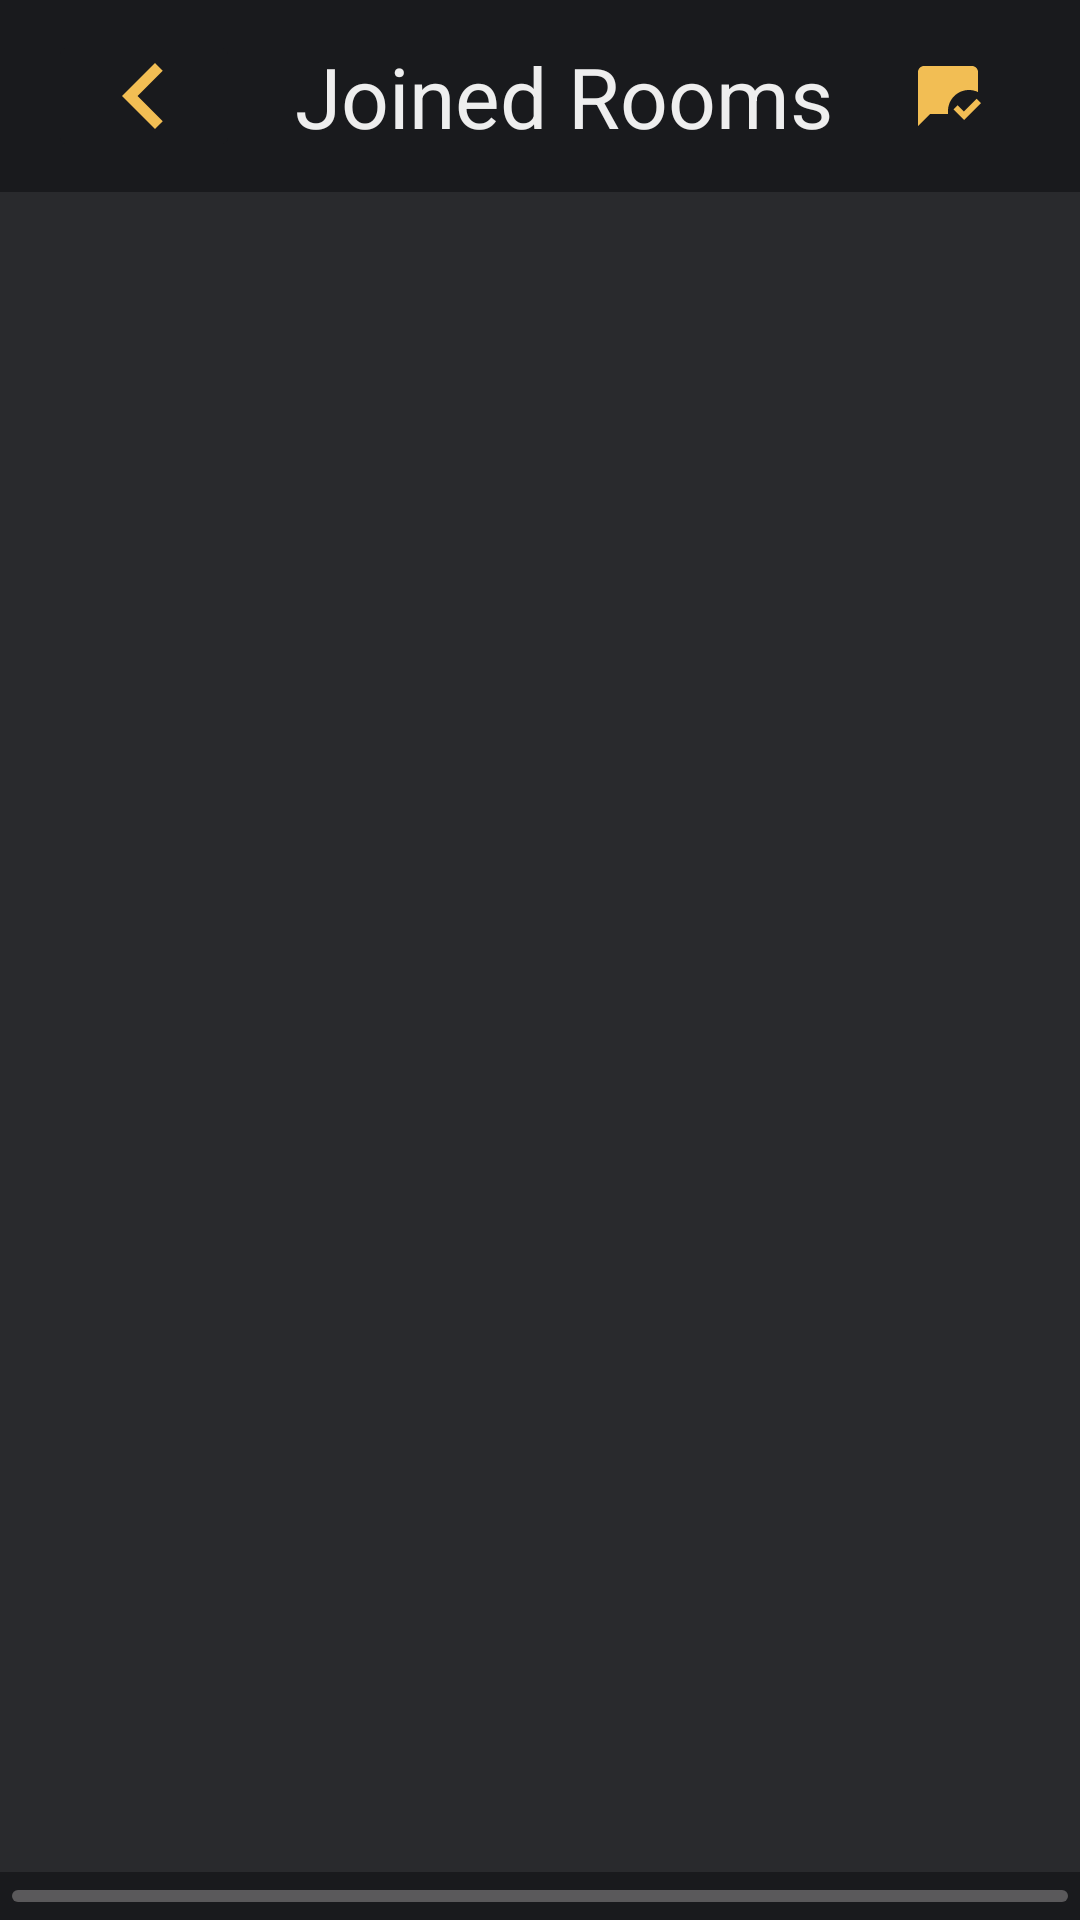

Named icons in this screenshot (1080px x 1920px) and their bounding boxes, (x1, y1, x2, y2):
Go Back: (122, 63, 163, 129)
Mark all as read: (918, 66, 981, 126)
